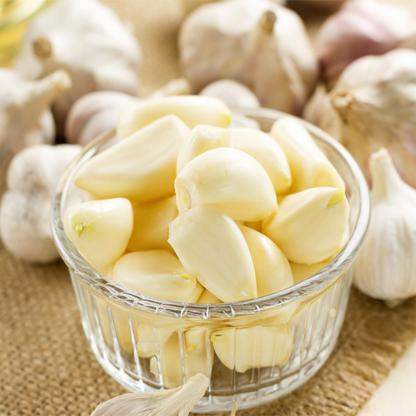garlic: (177, 4, 316, 92), (168, 200, 254, 322), (178, 142, 272, 224), (270, 180, 356, 260), (87, 128, 189, 188), (66, 198, 134, 264)
